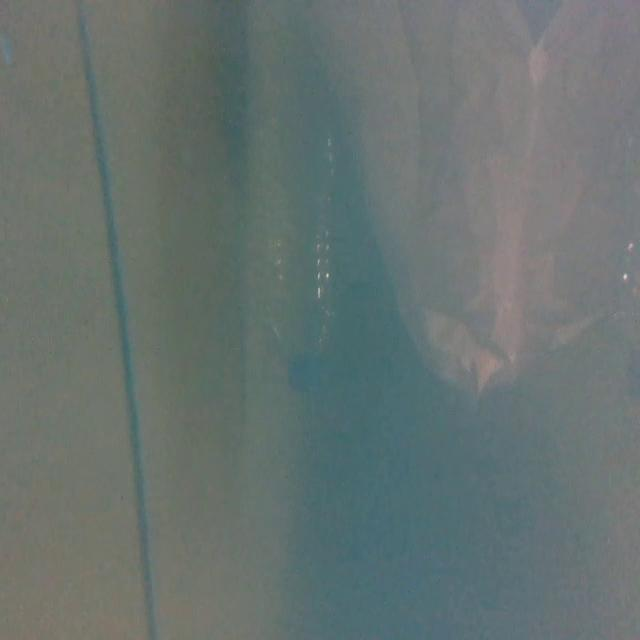plastic bags: (342, 0, 640, 401)
plastic bottle: (243, 96, 340, 398)
